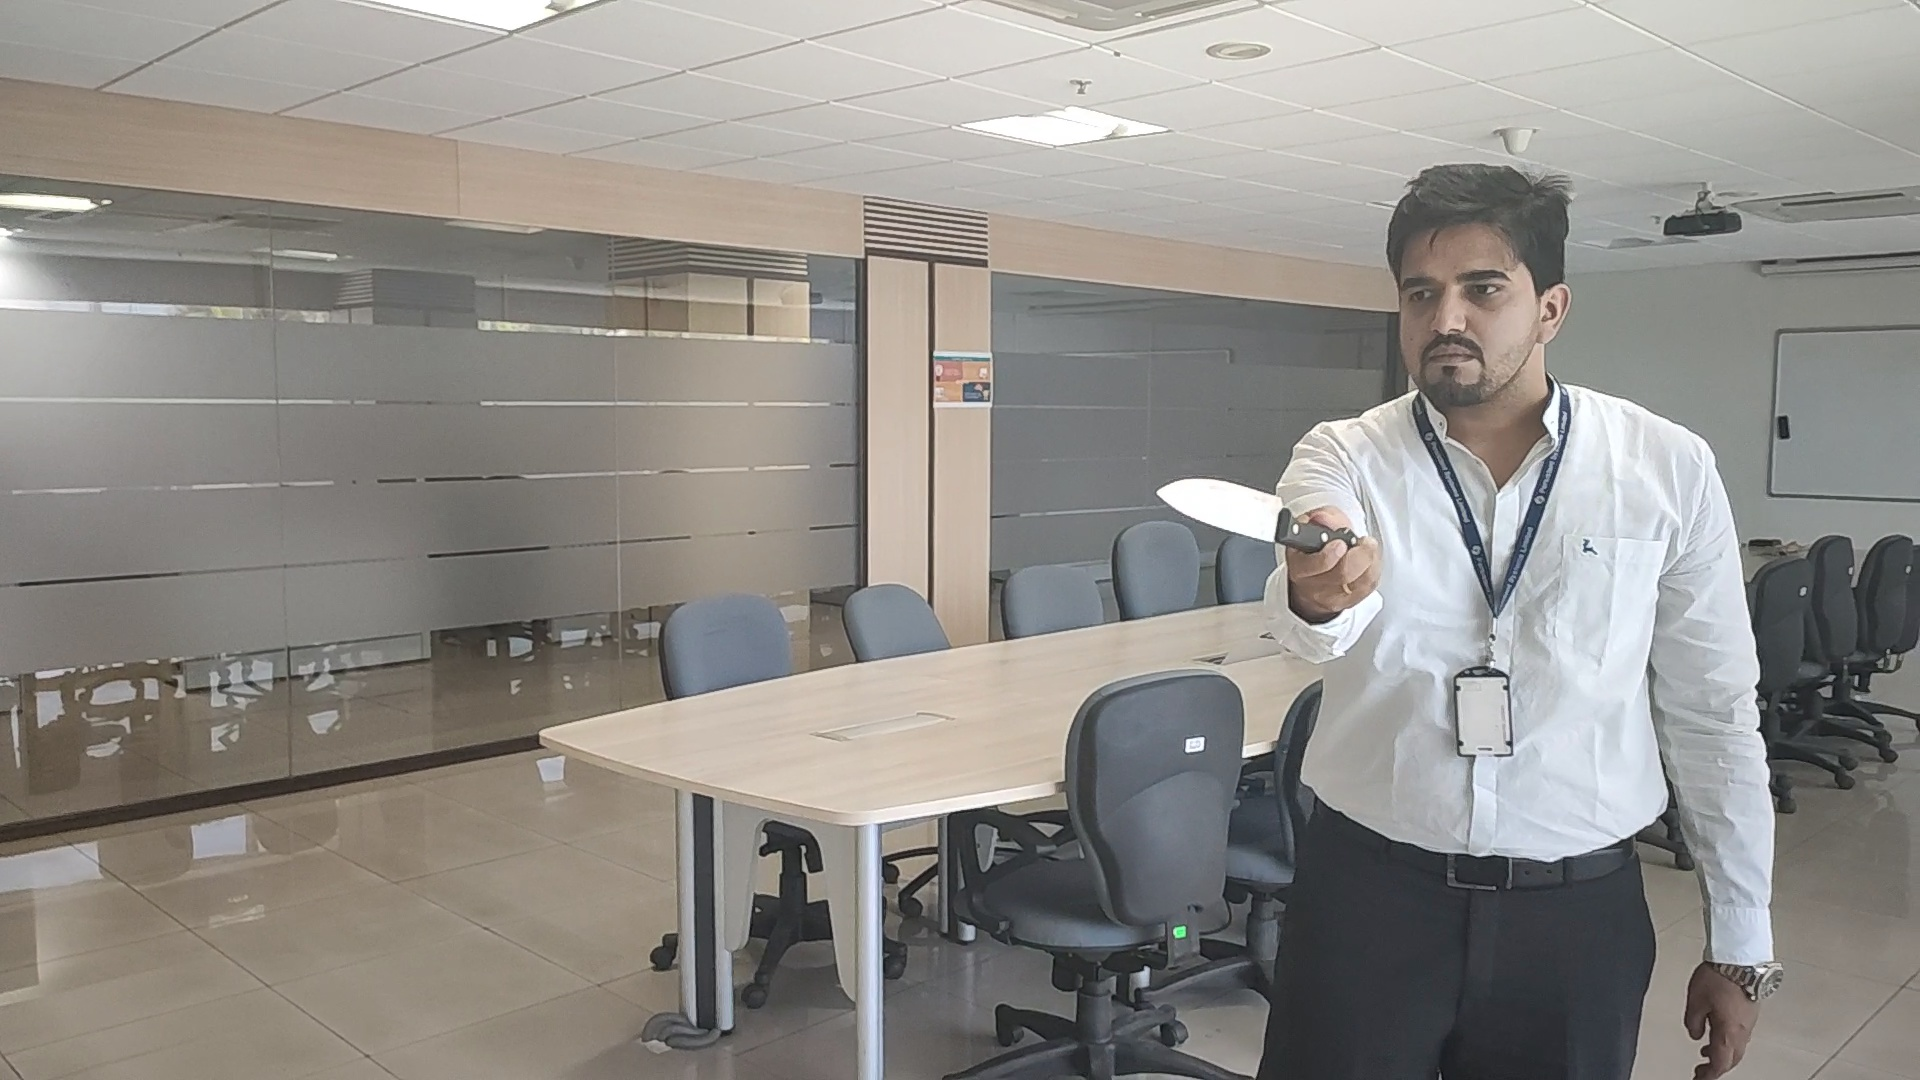knife: (1154, 476, 1320, 553)
